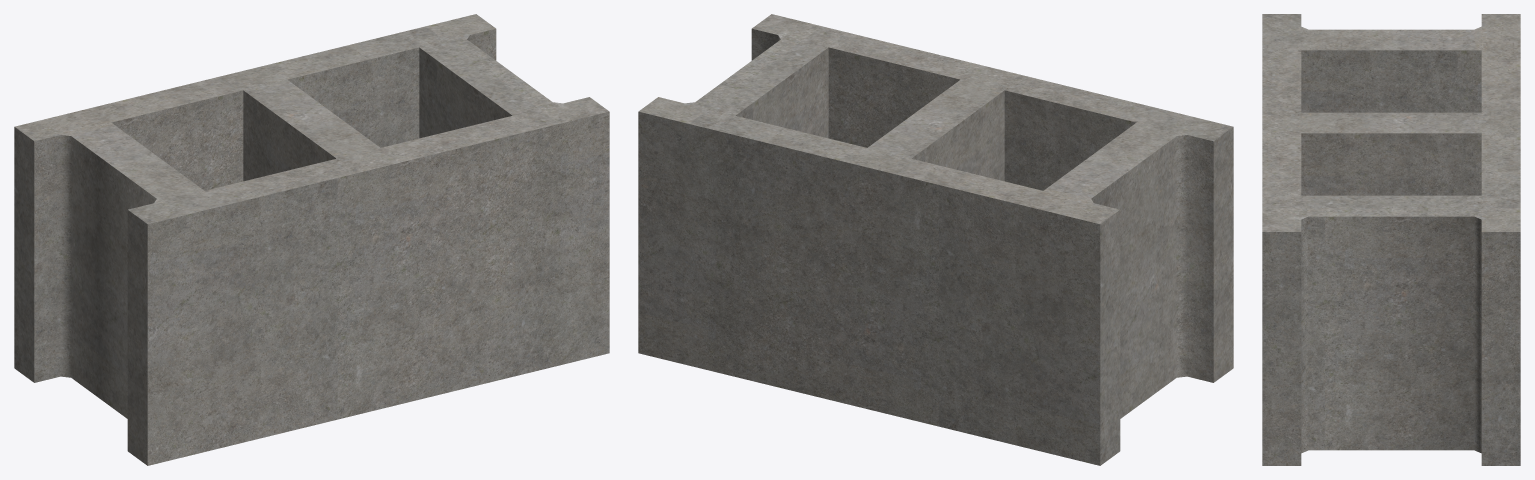
Rendered from hollow brick.fbx.
3 renders of one model, left to right at view 1: azimuth 30°, elevation 25°; view 2: azimuth 150°, elevation 25°; view 3: azimuth 270°, elevation 25°, orthographic. The views are drawn at different scales.
Parts seen in each view (by area): view 1: Cube.012; view 2: Cube.012; view 3: Cube.012.
Part boxes in pixels (box(x1,y1,x2,y2)): Cube.012: box(14, 14, 609, 465); Cube.012: box(638, 14, 1233, 465); Cube.012: box(1262, 14, 1520, 465).
Size of the model in its own units: 40 by 20 by 20.
